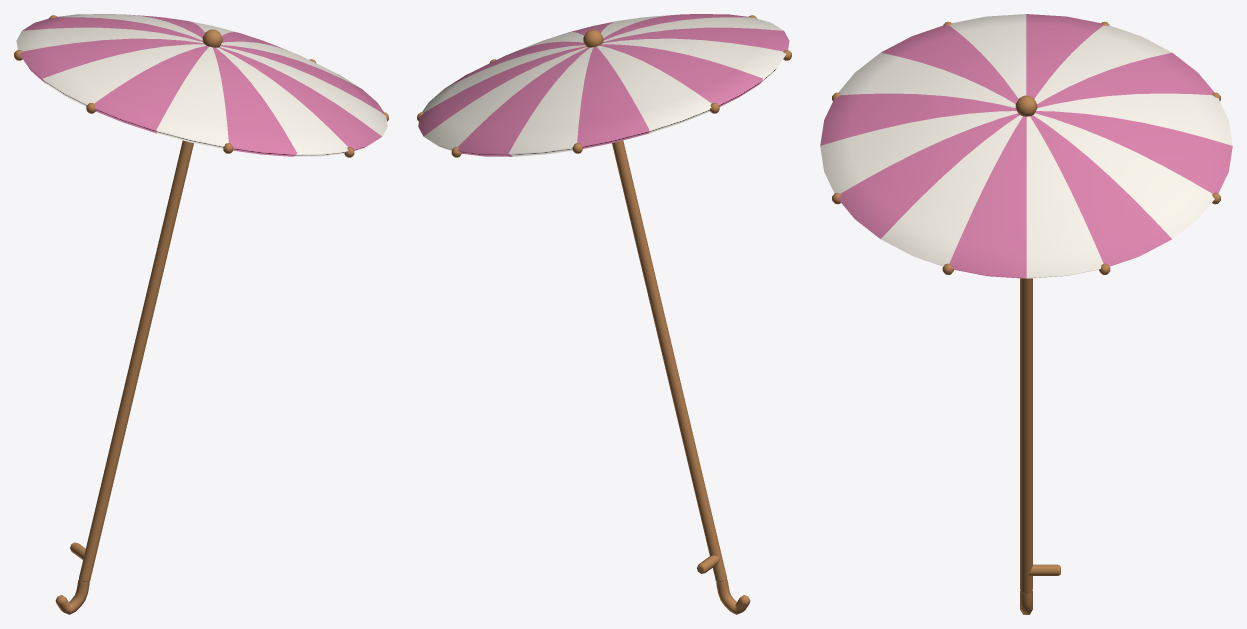
Rendered from kabuki_umbrella.glb.
3 renders of one model, left to right at view 1: azimuth 30°, elevation 25°; view 2: azimuth 150°, elevation 25°; view 3: azimuth 270°, elevation 25°, orthographic. The views are drawn at different scales.
Visible parts, largest first — view 1: kabuki_umbrella_ArmR; view 2: kabuki_umbrella_ArmR; view 3: kabuki_umbrella_ArmR.
Boxes of the visible parts, x1,y1,x2,y2 form: kabuki_umbrella_ArmR: (14,14,388,614); kabuki_umbrella_ArmR: (417,14,791,614); kabuki_umbrella_ArmR: (820,14,1232,614).
Bounding box in the file's own units: 0.8703 × 1.43 × 0.9.
